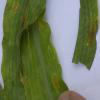Corn leaf blight: (23, 14, 64, 96), (0, 0, 33, 100)
